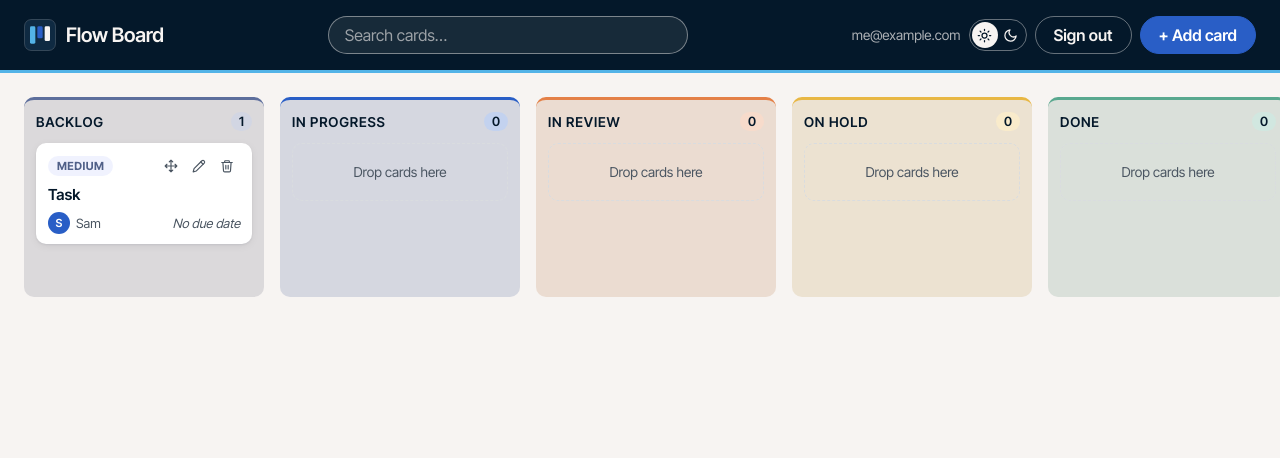
Test case: Controls (4.1.2, 2.5.3, 2.4.3) › reports the Move menu state with aria-expanded and aria-controls
The width and height of the screenshot is (1280, 458).
Step 1. Click the button named "Move Task" → (171, 166), box [158,153,184,179]
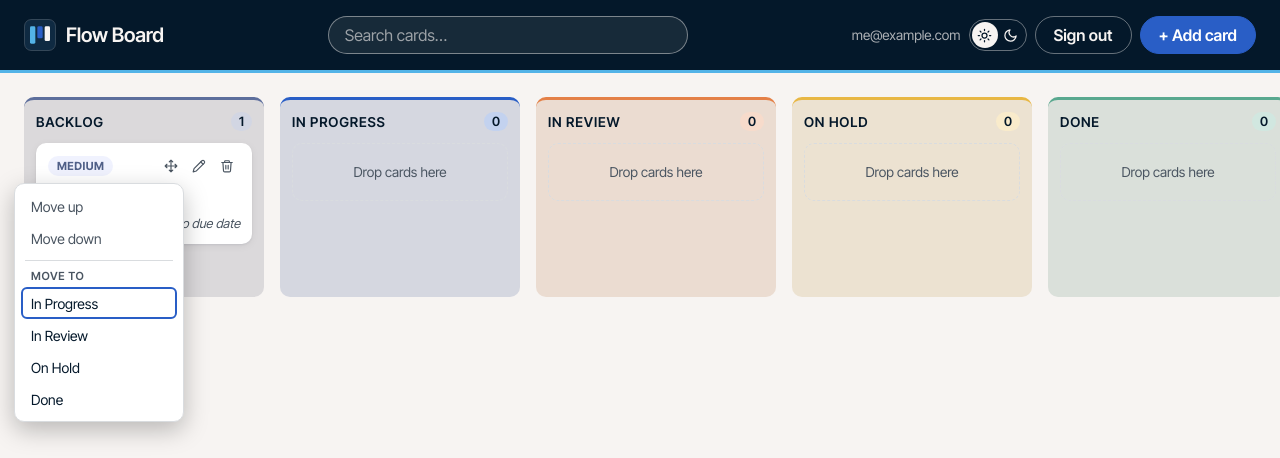
Check: the button "Move up" is disabled, box [21,190,177,222]
